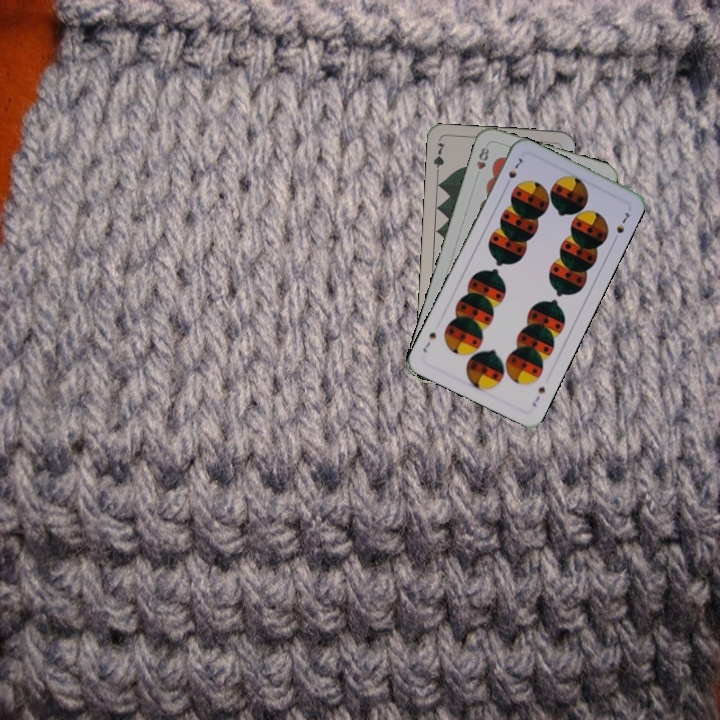G7: (429, 138, 447, 179)
H8: (472, 143, 492, 181)
S7: (501, 153, 525, 190), (528, 382, 548, 409)
